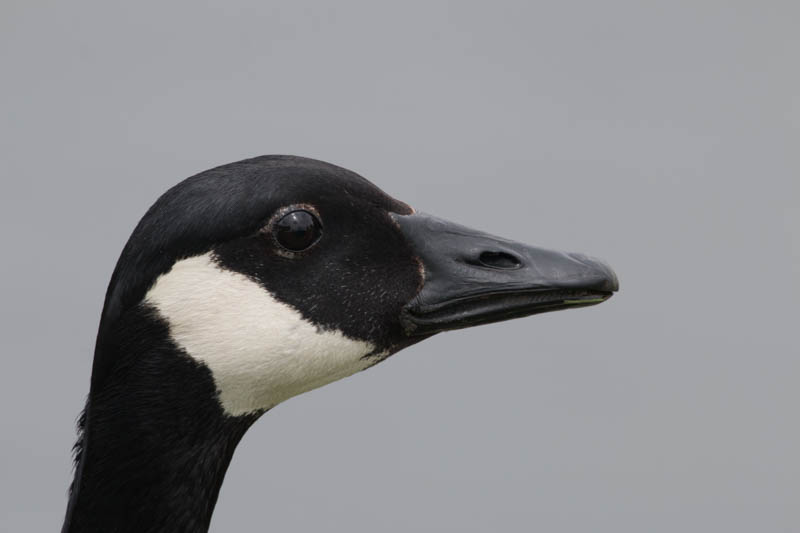goose-head: (92, 156, 619, 418)
